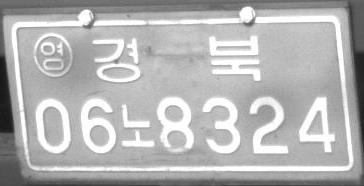0: (34, 98, 72, 154)
2: (248, 95, 289, 154)
3: (201, 96, 241, 154)
4: (297, 96, 336, 153)
6: (79, 97, 116, 155)
8: (156, 95, 195, 155)
경북_D: (92, 34, 261, 82)
노: (120, 103, 155, 147)
영: (32, 32, 73, 78)
